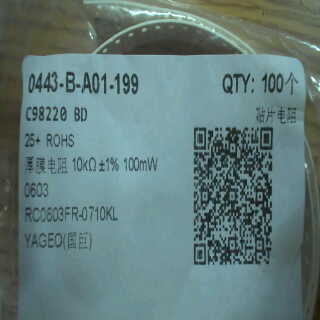10kR: (71, 152, 103, 175)
